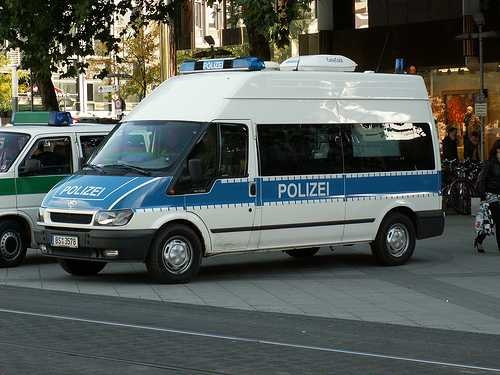Police Van: (34, 63, 465, 271)
